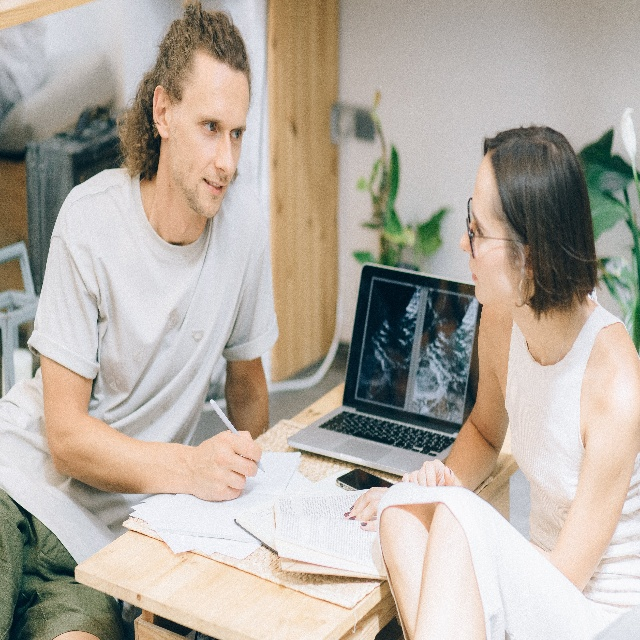Gafas: (466, 196, 526, 258)
Sin_guantes: (190, 427, 263, 505), (344, 482, 392, 533), (402, 458, 463, 486)
